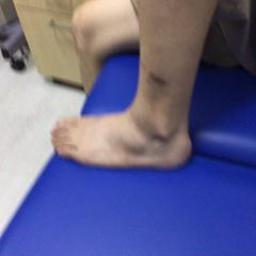Lateral View -Left Foot-: (46, 86, 198, 174)
